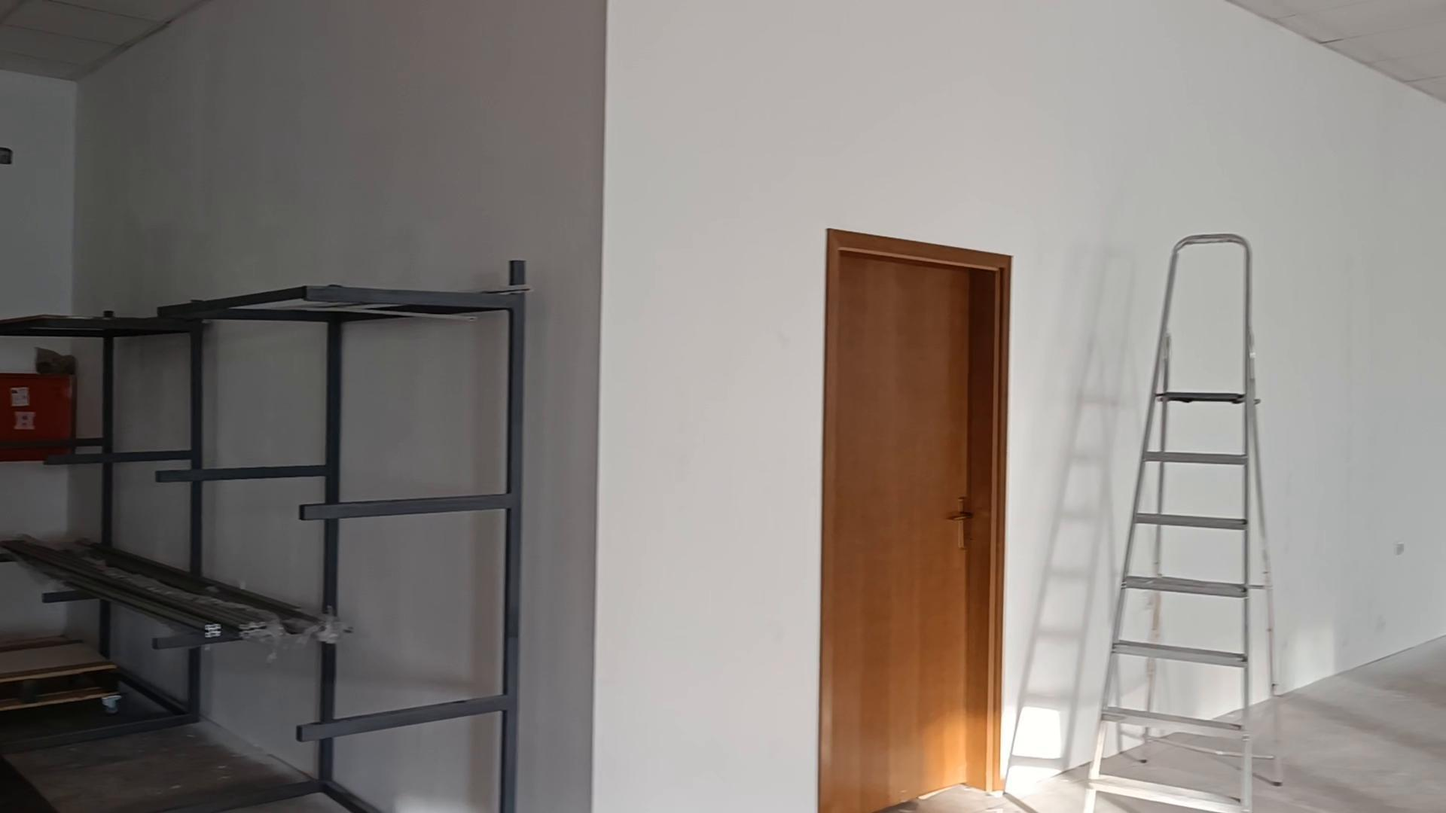floor: (1254, 638, 1445, 812)
wall: (75, 0, 1445, 812), (339, 518, 498, 714), (344, 330, 493, 499), (0, 72, 80, 319), (326, 716, 491, 812), (206, 326, 318, 458), (203, 484, 319, 607), (205, 649, 311, 772), (114, 340, 186, 448), (1007, 698, 1090, 782)
